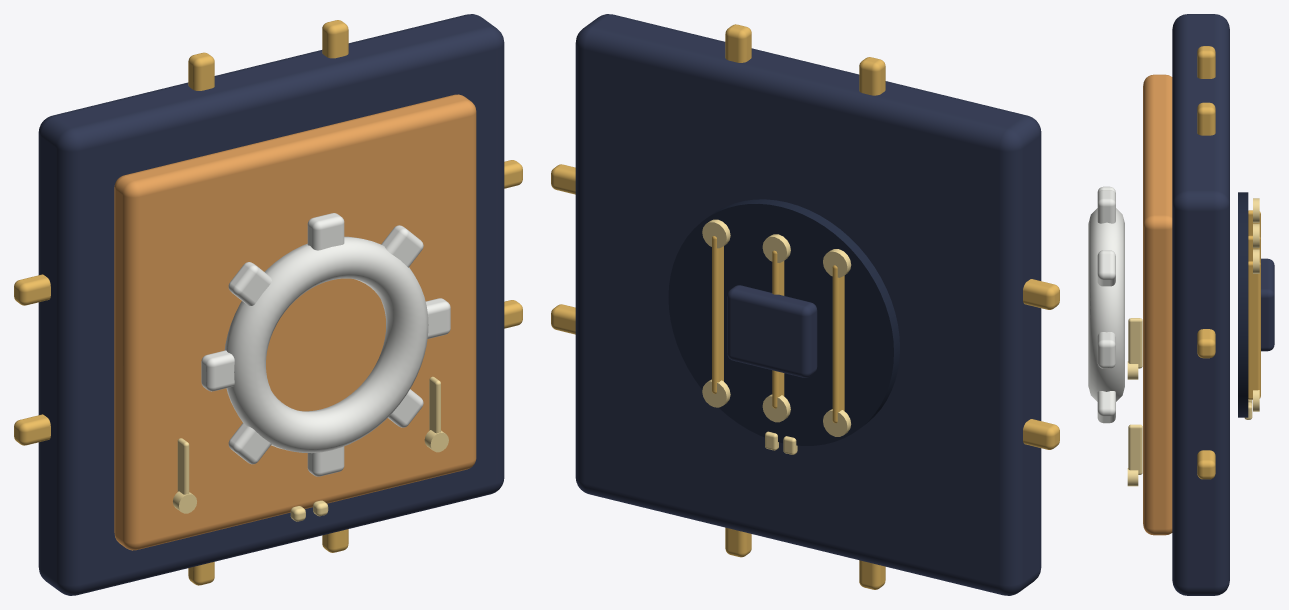
File: chip-training.glb
3 views of the same model, side by side, from view 1: azimuth 30°, elevation 25°; view 2: azimuth 150°, elevation 25°; view 3: azimuth 270°, elevation 25° (orthographic). The views are drawn at different scales.
Parts seen in each view (by area): view 1: component (×16); view 2: component (×12); view 3: component (×16).
Part boxes in pixels (box(x1,y1,x2,y2)): component (×16): box(14, 14, 504, 595); component (×12): box(575, 14, 1059, 595); component (×16): box(1088, 14, 1274, 595).
Size of the model in its own units: 0.0384 by 0.0384 by 0.0142.
